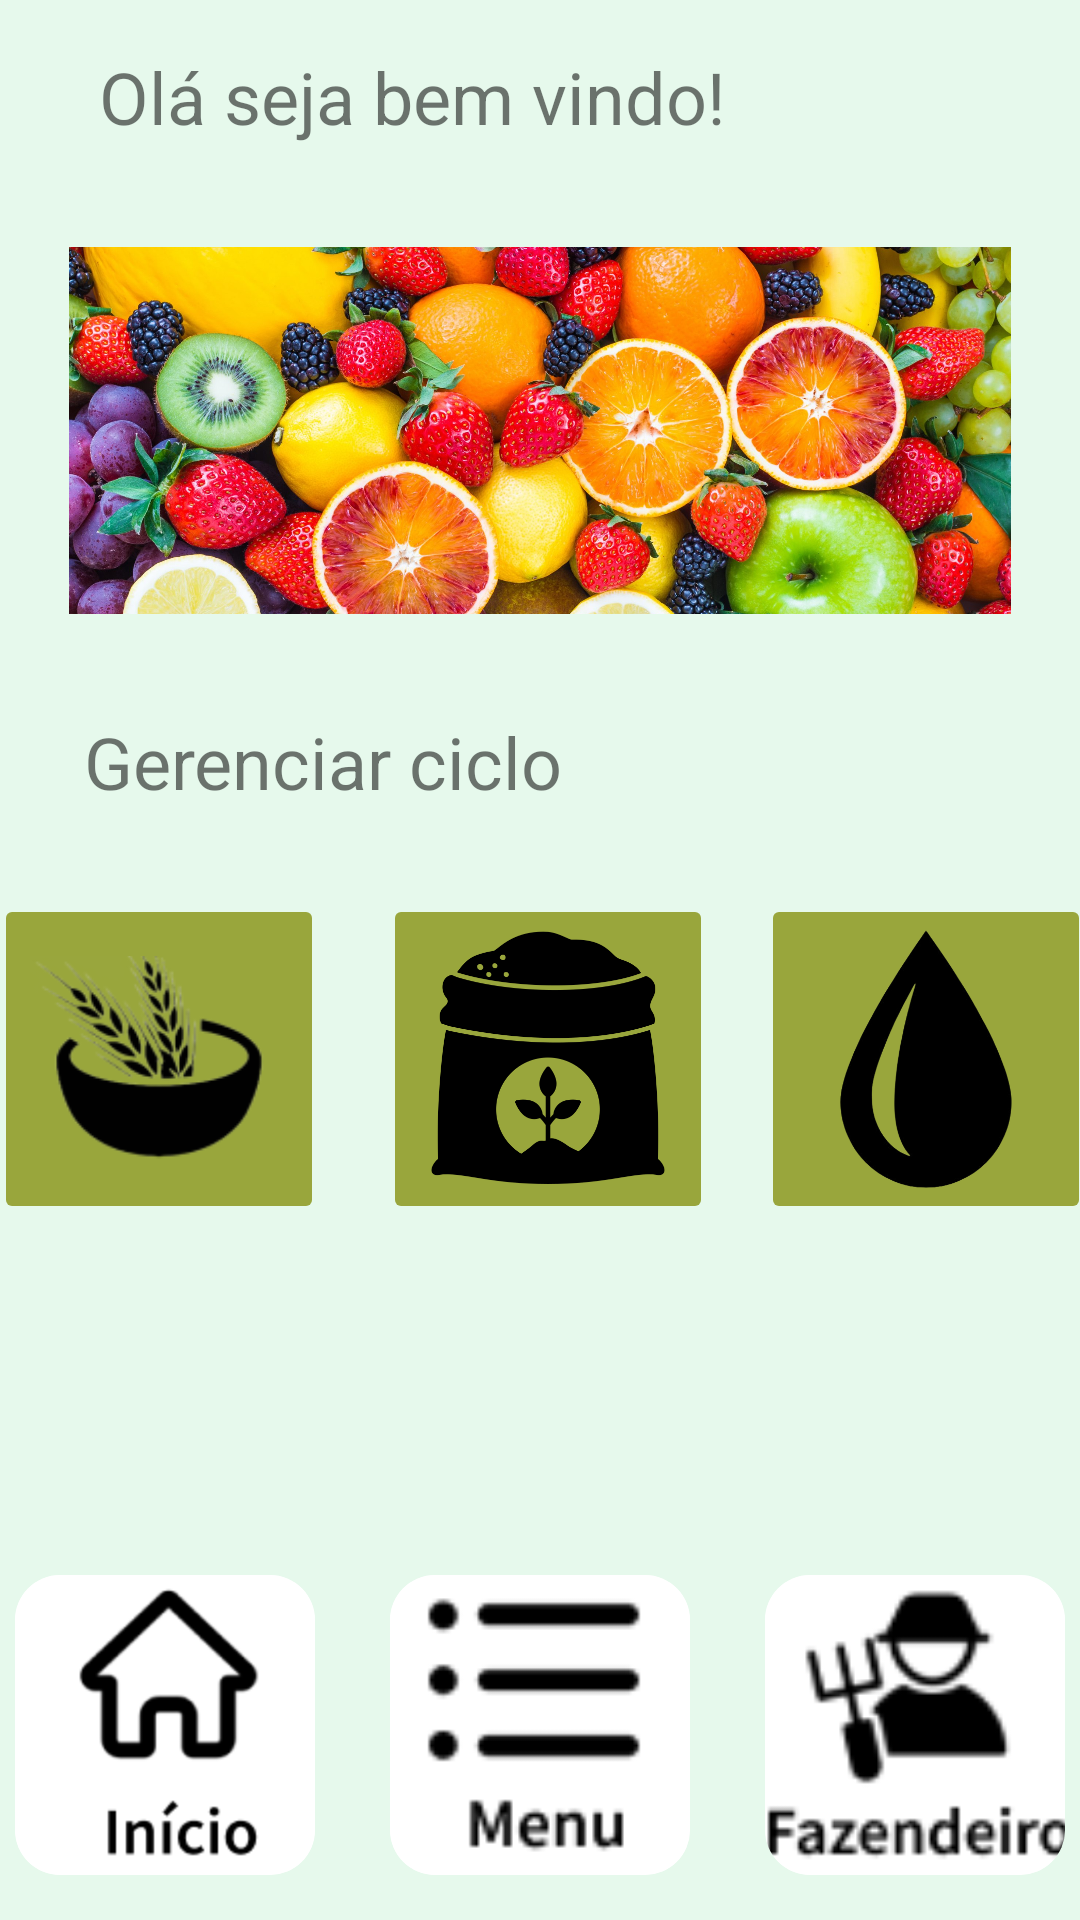

Icon bounding boxes for this 1080 x 1920 phone screenshot, format (x1, y1, x2, y2):
adubo: (395, 912, 701, 1206)
gota: (773, 912, 1079, 1206)
prato: (6, 912, 312, 1206)
